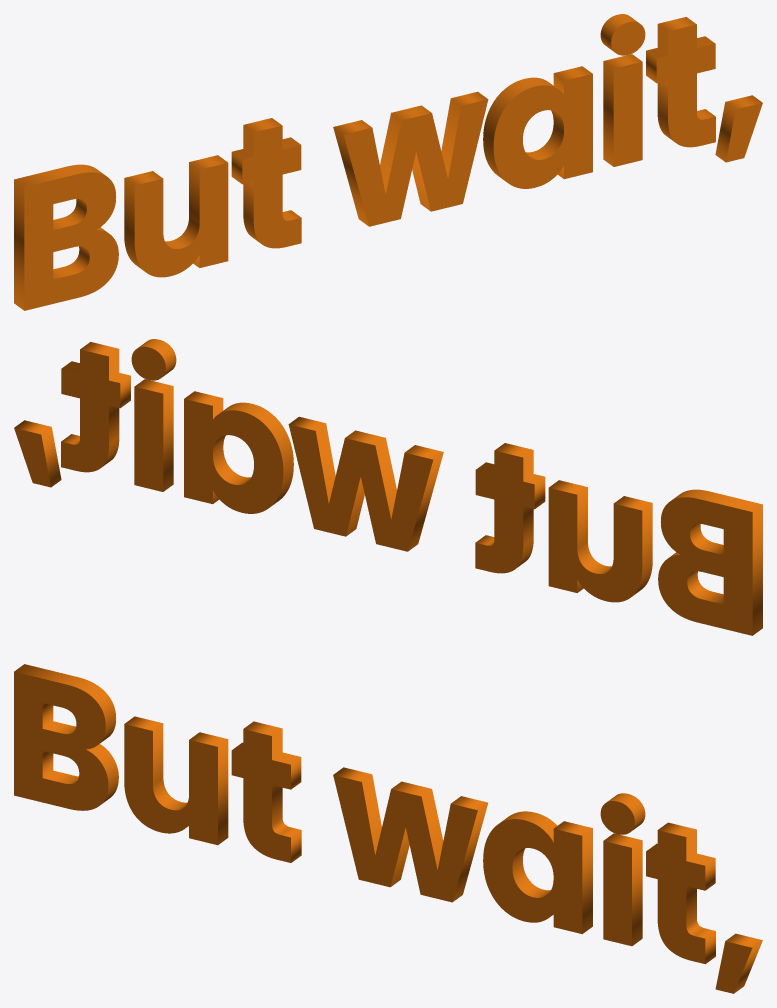
Rendered from yazison1.gltf.
3 renders of one model, top to bottom at view 1: azimuth 30°, elevation 25°; view 2: azimuth 150°, elevation 25°; view 3: azimuth 330°, elevation 25°, orthographic.
Parts seen in each view (by area): view 1: Text.066; view 2: Text.066; view 3: Text.066.
Boxes of the visible parts, x1,y1,x2,y2 form: Text.066: (14,14,762,310); Text.066: (14,339,762,635); Text.066: (14,664,762,993).
Bounding box in the file's own units: 0.1236 × 0.0262 × 0.00304.
